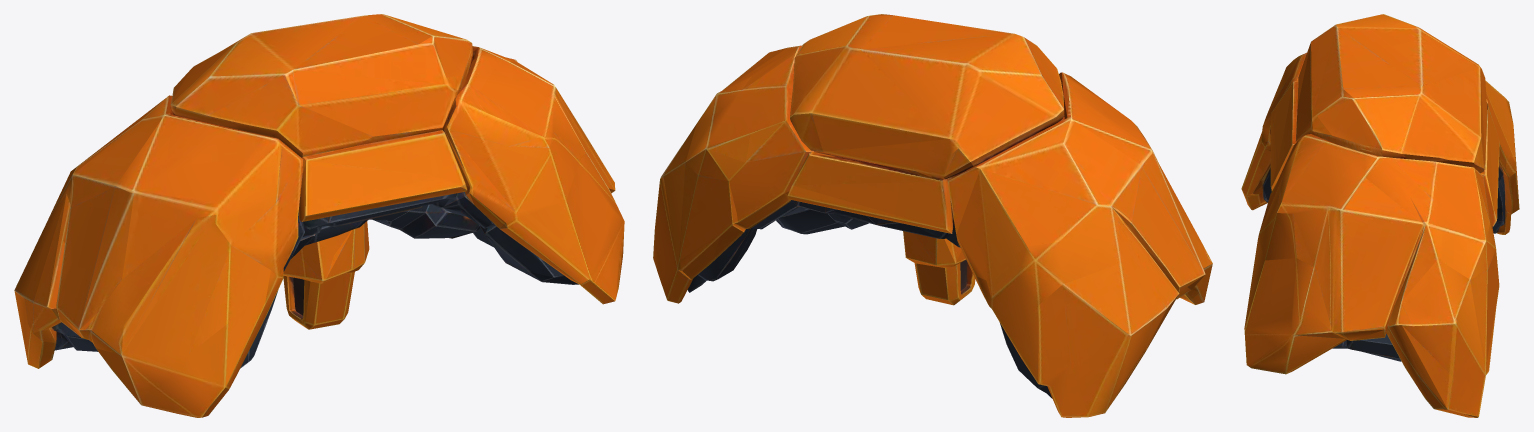
Rendered from eb787c5f-0014-4f21-8629-2eefc2c4c2ec_part_14_optimized.glb.
The picture shows the model from 3 angles, left to right: view 1: azimuth 30°, elevation 25°; view 2: azimuth 150°, elevation 25°; view 3: azimuth 270°, elevation 25°; orthographic projection. The views are drawn at different scales.
Visible parts, largest first — view 1: output_unwrapped; view 2: output_unwrapped; view 3: output_unwrapped.
Part boxes in pixels (left/top/right/bottom): output_unwrapped: left=14, top=14, right=624, bottom=417; output_unwrapped: left=653, top=14, right=1212, bottom=417; output_unwrapped: left=1241, top=14, right=1519, bottom=417.
Size of the model in its own units: 1.9 by 1.05 by 0.9691.
Materials: 1 (1 with a texture image).
